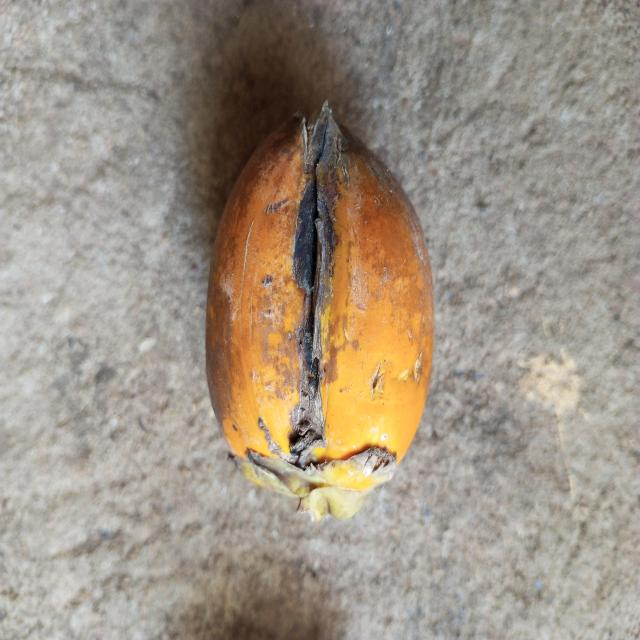damaged: (206, 101, 433, 520)
